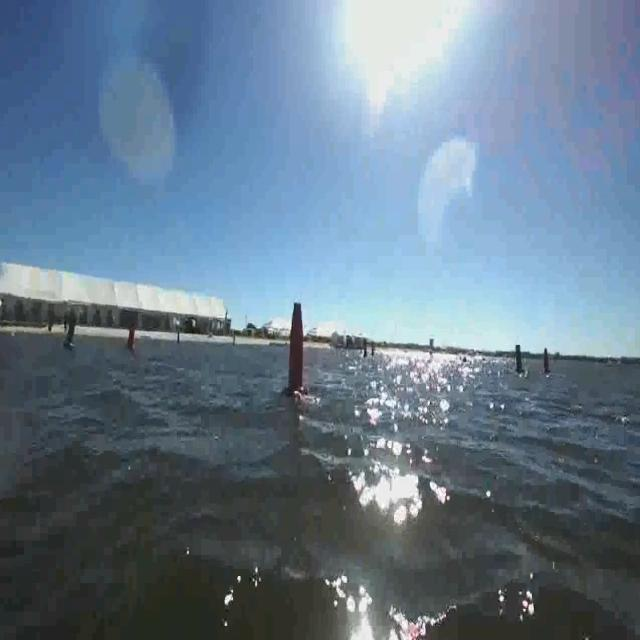green-column-buoy: (64, 310, 79, 352), (512, 343, 523, 373)
red-column-buoy: (286, 298, 310, 400), (127, 318, 140, 350), (541, 348, 550, 374)
